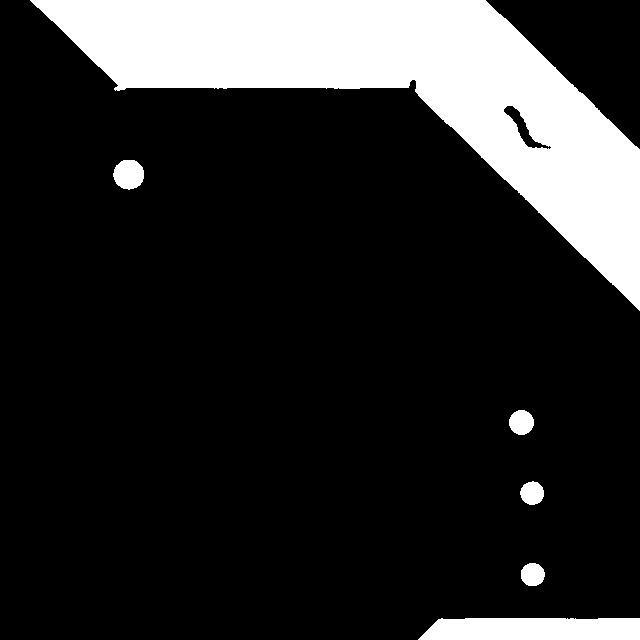copper: (494, 96, 560, 158)
mousebite: (104, 75, 135, 100)
pin-hole: (499, 400, 543, 444)
spur: (398, 70, 425, 107)
